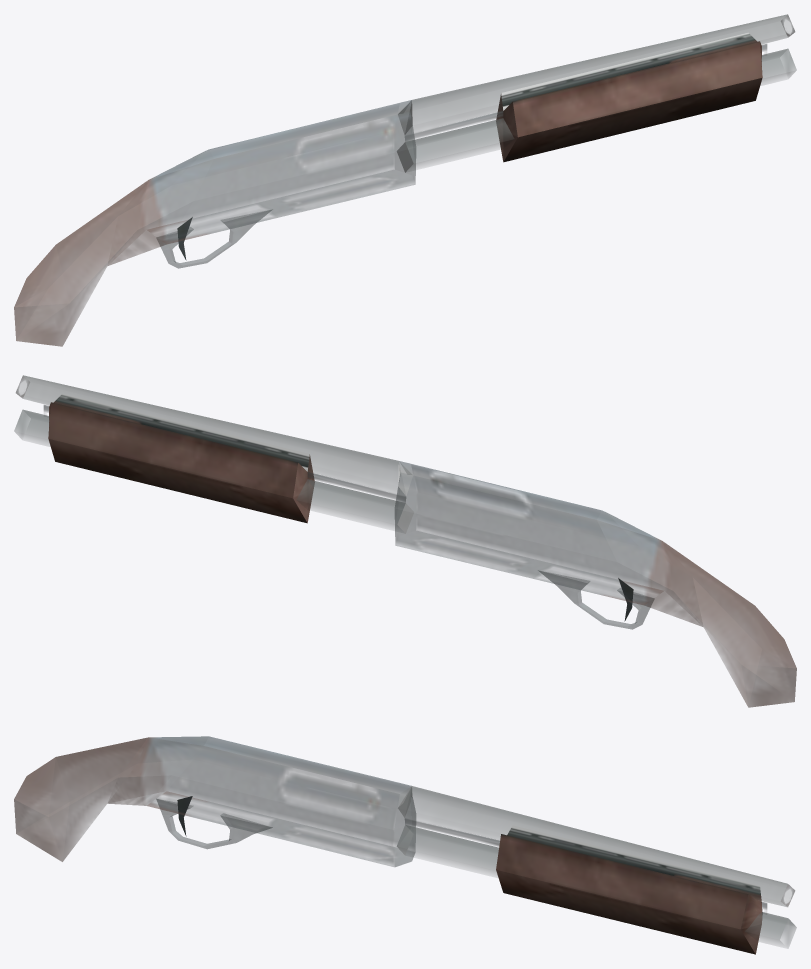
File: blue shotgun.glb
3 renders of one model, top to bottom at view 1: azimuth 30°, elevation 25°; view 2: azimuth 150°, elevation 25°; view 3: azimuth 330°, elevation 25°, orthographic.
Parts seen in each view (by area): view 1: PABody&Barrel.001, Pump; view 2: PABody&Barrel.001, Pump; view 3: PABody&Barrel.001, Pump.
Boxes of the visible parts, <box> form: PABody&Barrel.001: <box>14,14,796,346</box>; Pump: <box>496,32,762,162</box>; PABody&Barrel.001: <box>14,375,796,707</box>; Pump: <box>48,393,314,523</box>; PABody&Barrel.001: <box>14,736,796,947</box>; Pump: <box>496,825,762,954</box>.
Bounding box in the file's own units: 2.54 × 0.5059 × 0.1262.
Materials: 3 (3 with a texture image).
